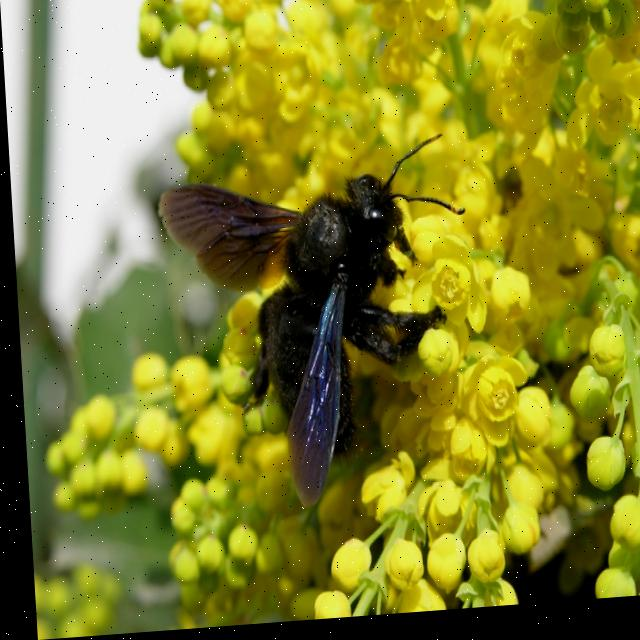Xylocopa: (146, 143, 487, 527)
